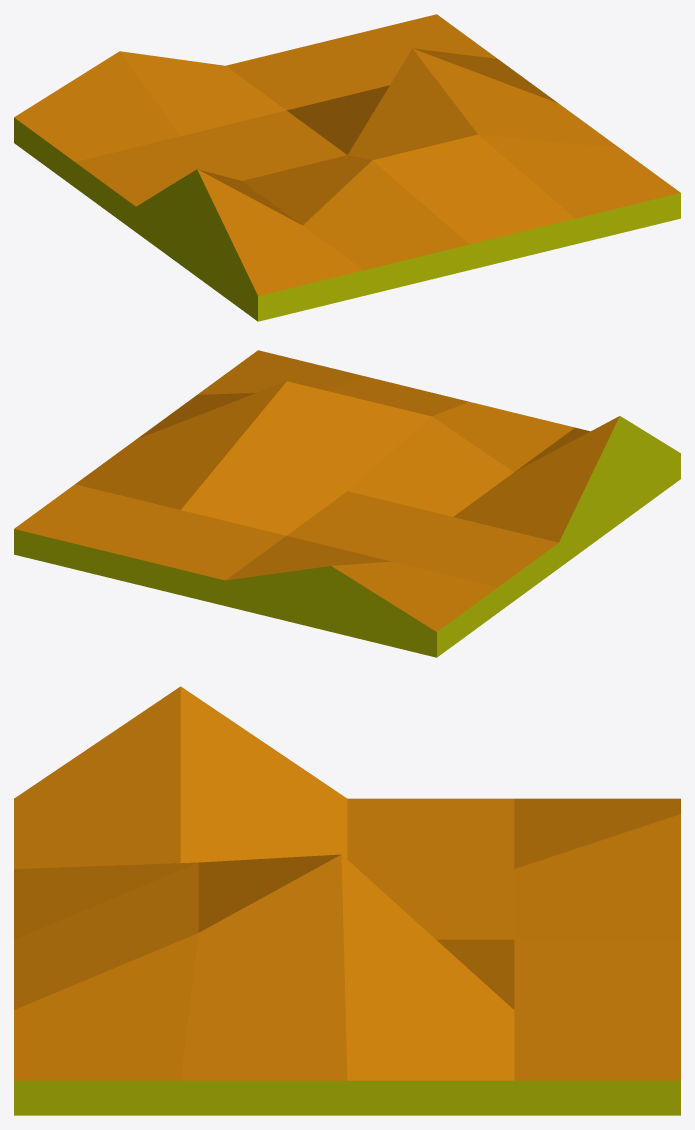
Rendered from ground2.fbx.
The picture shows the model from 3 angles, top to bottom: view 1: azimuth 30°, elevation 25°; view 2: azimuth 150°, elevation 25°; view 3: azimuth 270°, elevation 25°; orthographic projection. The views are drawn at different scales.
Visible parts, largest first — view 1: Cube.010; view 2: Cube.010; view 3: Cube.010.
Part boxes in pixels (x1,y1,x2,y2): Cube.010: [14, 14, 680, 321]; Cube.010: [14, 350, 680, 657]; Cube.010: [14, 686, 680, 1115].
Size of the model in its own units: 11494 by 3083 by 11494.
